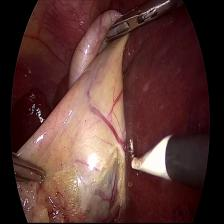Grasper: (99, 1, 180, 52), (12, 151, 48, 189)
Hook: (129, 128, 174, 188)
